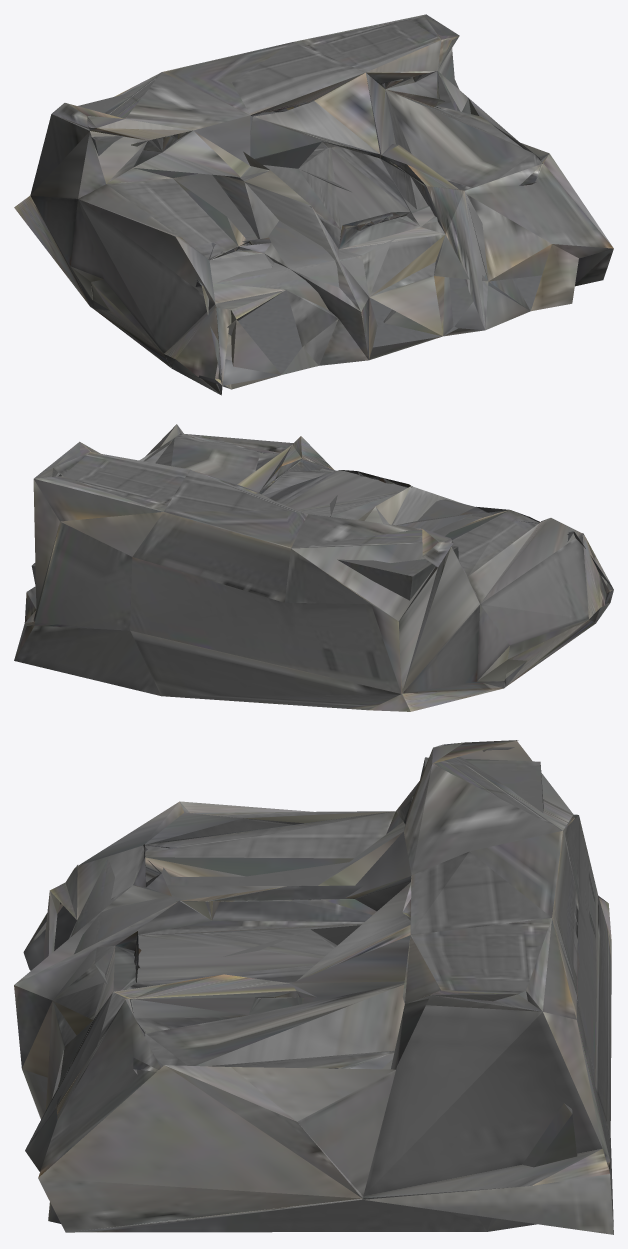
The model's file is imperial_munitions_plant_lod2.glb.
The picture shows the model from 3 angles, top to bottom: view 1: azimuth 30°, elevation 25°; view 2: azimuth 150°, elevation 25°; view 3: azimuth 270°, elevation 25°; orthographic projection. The views are drawn at different scales.
Parts seen in each view (by area): view 1: mesh_node; view 2: mesh_node; view 3: mesh_node.
Part boxes in pixels (box(x1,y1,x2,y2)): mesh_node: box(14, 14, 613, 395); mesh_node: box(14, 424, 613, 711); mesh_node: box(14, 740, 613, 1234).
Bounding box in the file's own units: 30.79 × 11.79 × 26.67.
Materials: 1 (1 with a texture image).
